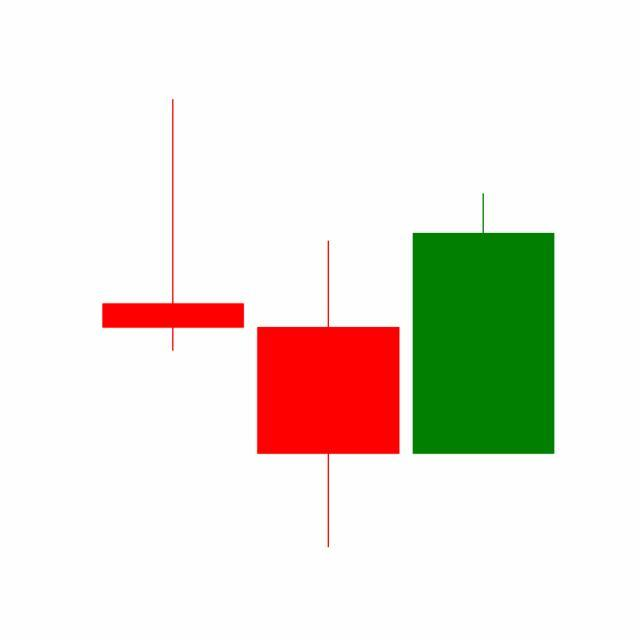Marubozu: (406, 191, 562, 457)
